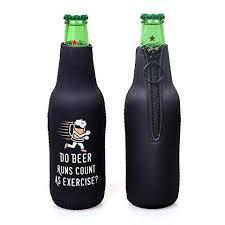beer: (48, 13, 106, 210)
